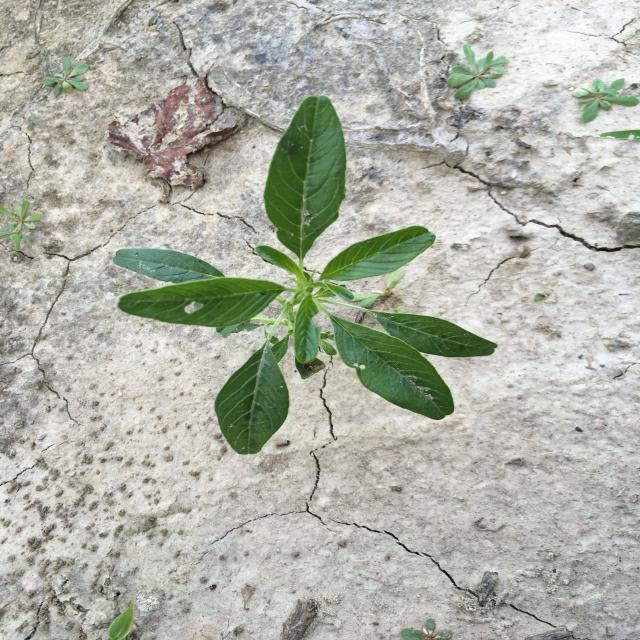Carpetweed: (446, 44, 511, 102), (570, 77, 638, 124), (1, 200, 44, 252), (40, 57, 90, 98)
Waterhemp: (110, 94, 500, 457)
